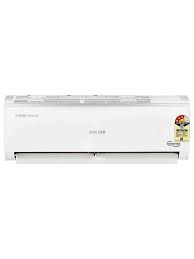ac: (5, 91, 194, 172)
